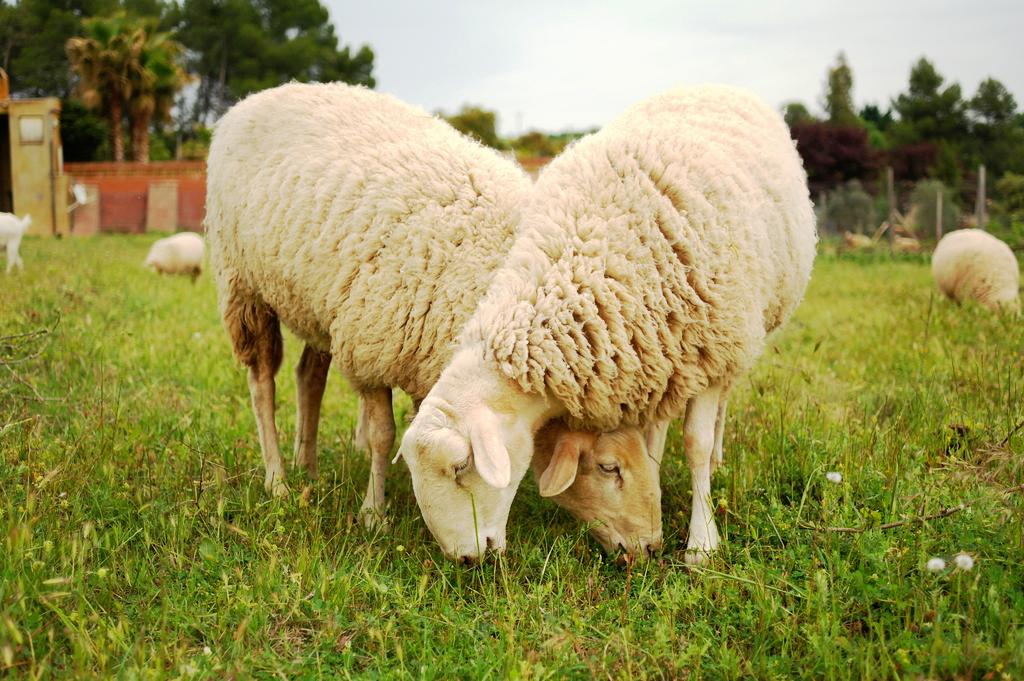Sheep: (204, 78, 664, 583), (390, 78, 818, 584), (928, 231, 1024, 324), (146, 228, 204, 284), (0, 208, 33, 266)
